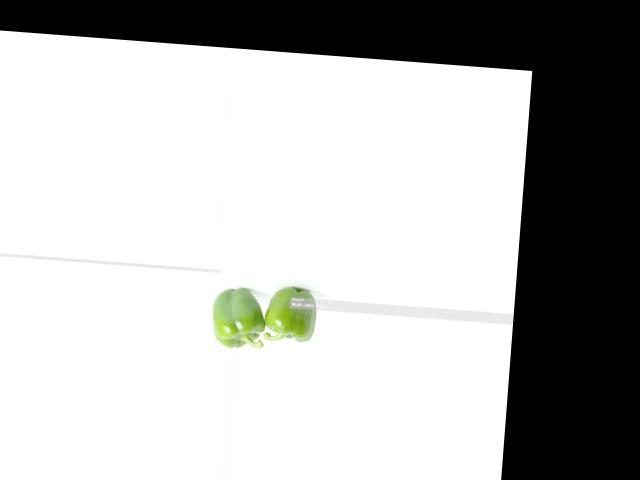bell_pepper: (209, 277, 267, 354)
